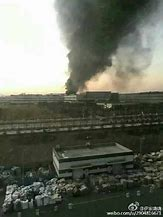smoke: (54, 1, 163, 91)
